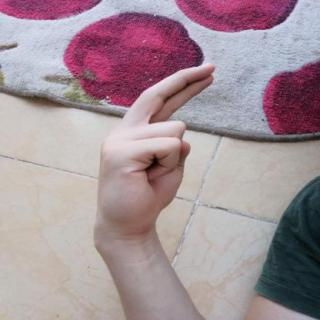ZAY: (85, 58, 227, 248)
